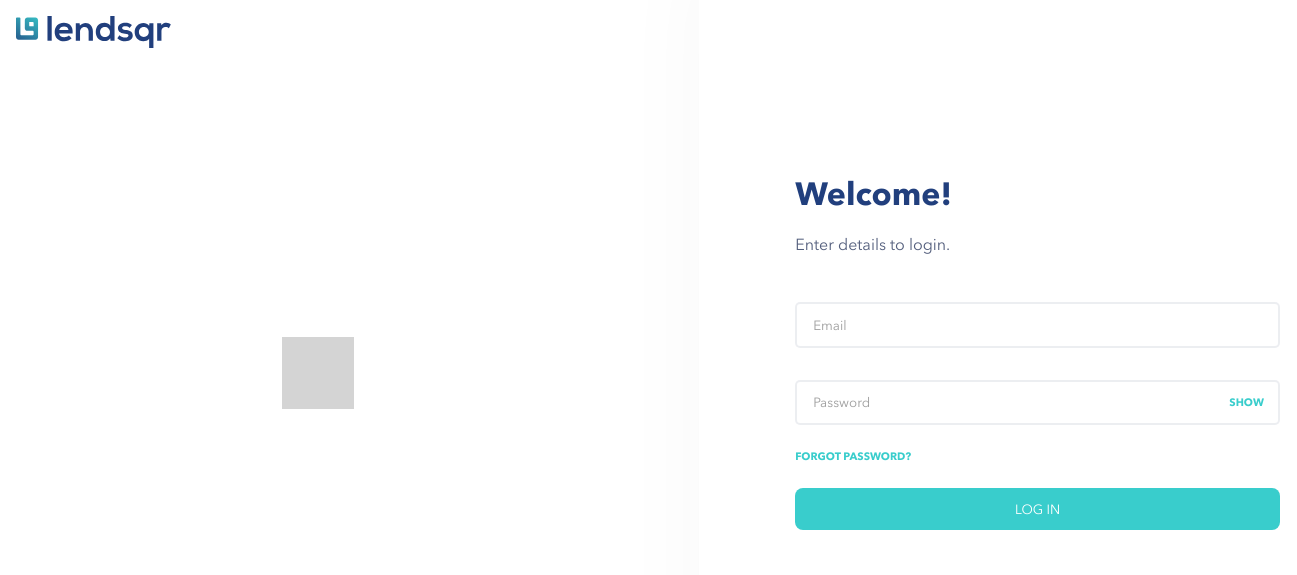
it: shows error message on invalid email input
Type "wrongValue" into the field with placeholder "Email" at (1038, 325), box [795,302,1280,348]
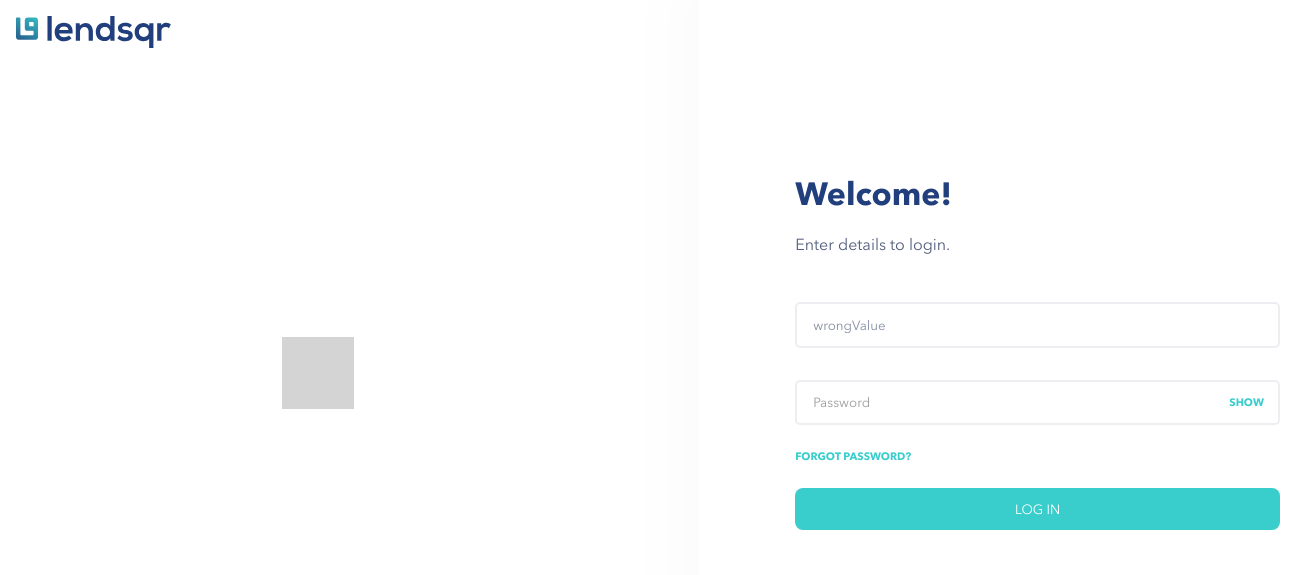
Click the button "LOG IN" at (1038, 509), box [795,488,1280,530]
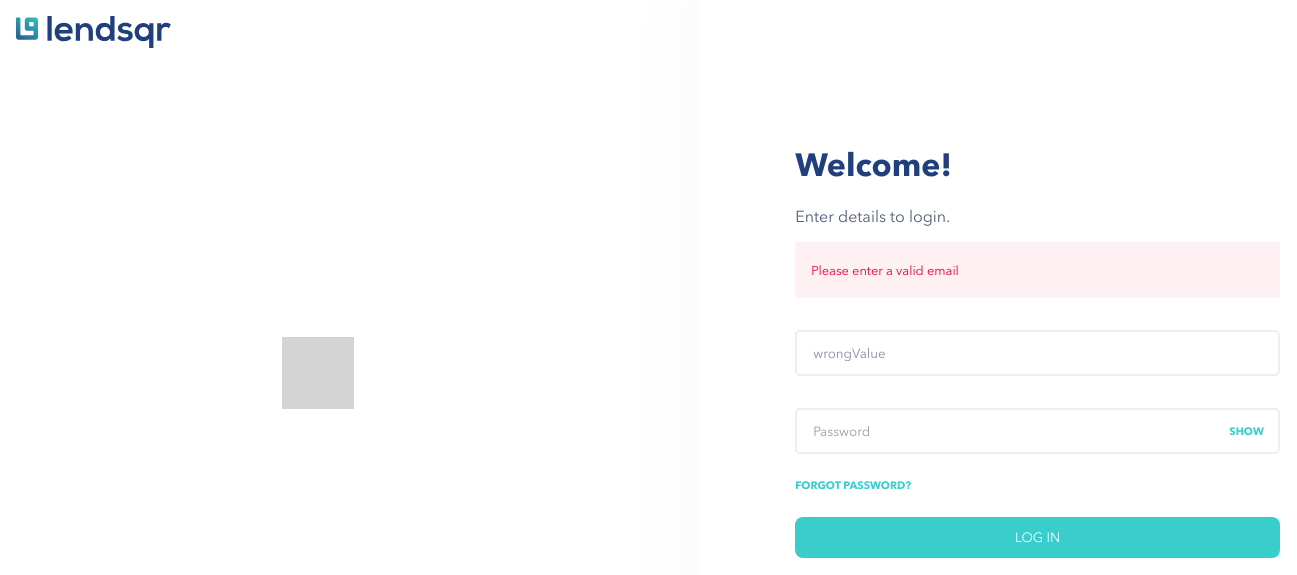
Check: the text "Please enter a valid email" is shown, box [811,263,959,278]
